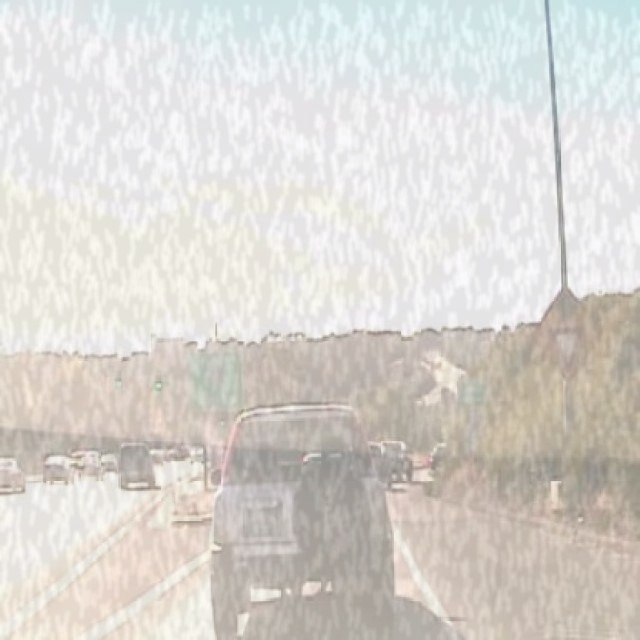yieldAhead: (530, 285, 602, 382)
